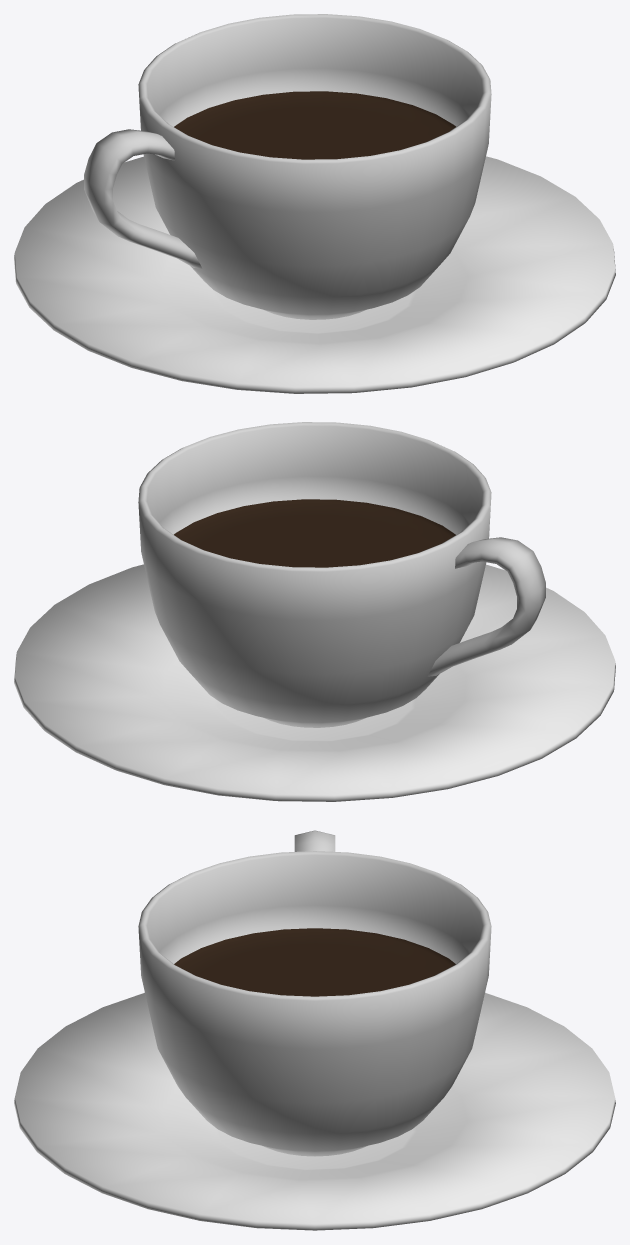
File: coffee_cup.fbx
3 renders of one model, top to bottom at view 1: azimuth 30°, elevation 25°; view 2: azimuth 150°, elevation 25°; view 3: azimuth 270°, elevation 25°, orthographic.
Parts seen in each view (by area): view 1: BezierCurve, Circle; view 2: BezierCurve, Circle; view 3: BezierCurve, Circle.
Part boxes in pixels (x1,y1,x2,y2): BezierCurve: (84,14,491,319); Circle: (14,156,615,393); BezierCurve: (138,422,545,727); Circle: (14,564,615,801); BezierCurve: (138,830,491,1156); Circle: (14,992,615,1230).
Bounding box in the file's own units: 4479 × 1730 × 4479.
